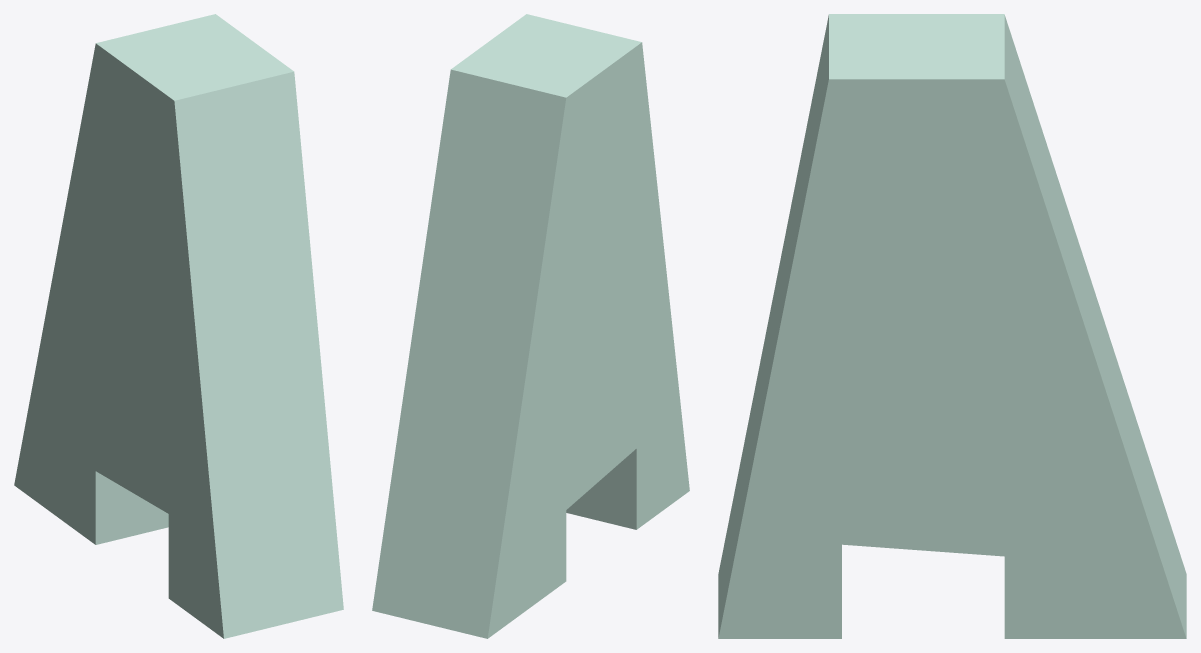
3 views of the same model, side by side, from view 1: azimuth 30°, elevation 25°; view 2: azimuth 150°, elevation 25°; view 3: azimuth 270°, elevation 25° (orthographic). The views are drawn at different scales.
Visible parts, largest first — view 1: Renderer Node; view 2: Renderer Node; view 3: Renderer Node.
Boxes of the visible parts, left/top/right/bottom form: Renderer Node: left=14, top=14, right=343, bottom=638; Renderer Node: left=372, top=14, right=689, bottom=638; Renderer Node: left=718, top=14, right=1186, bottom=638.
Size of the model in its own units: 0.1875 by 0.75 by 0.5684.
